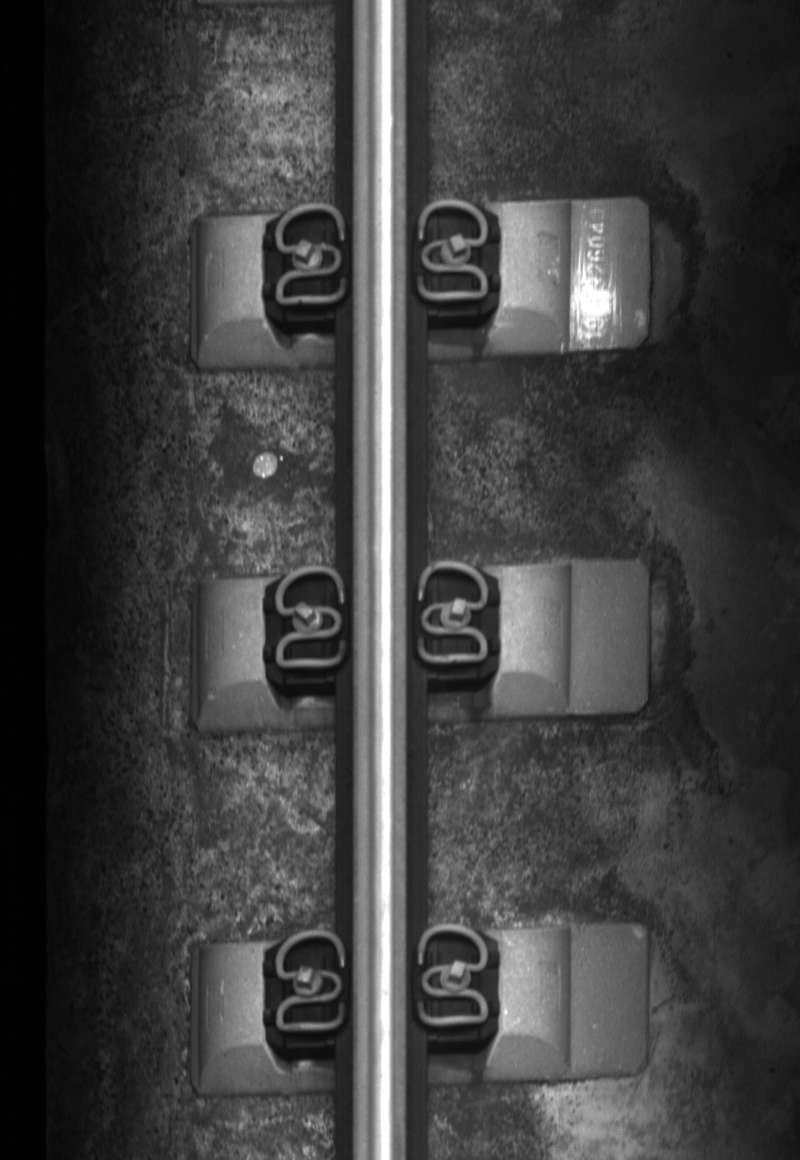l_faster: (268, 560, 351, 674), (269, 197, 352, 311), (270, 923, 351, 1037)
r_faster: (412, 561, 495, 673), (413, 921, 495, 1034), (413, 198, 491, 306)
